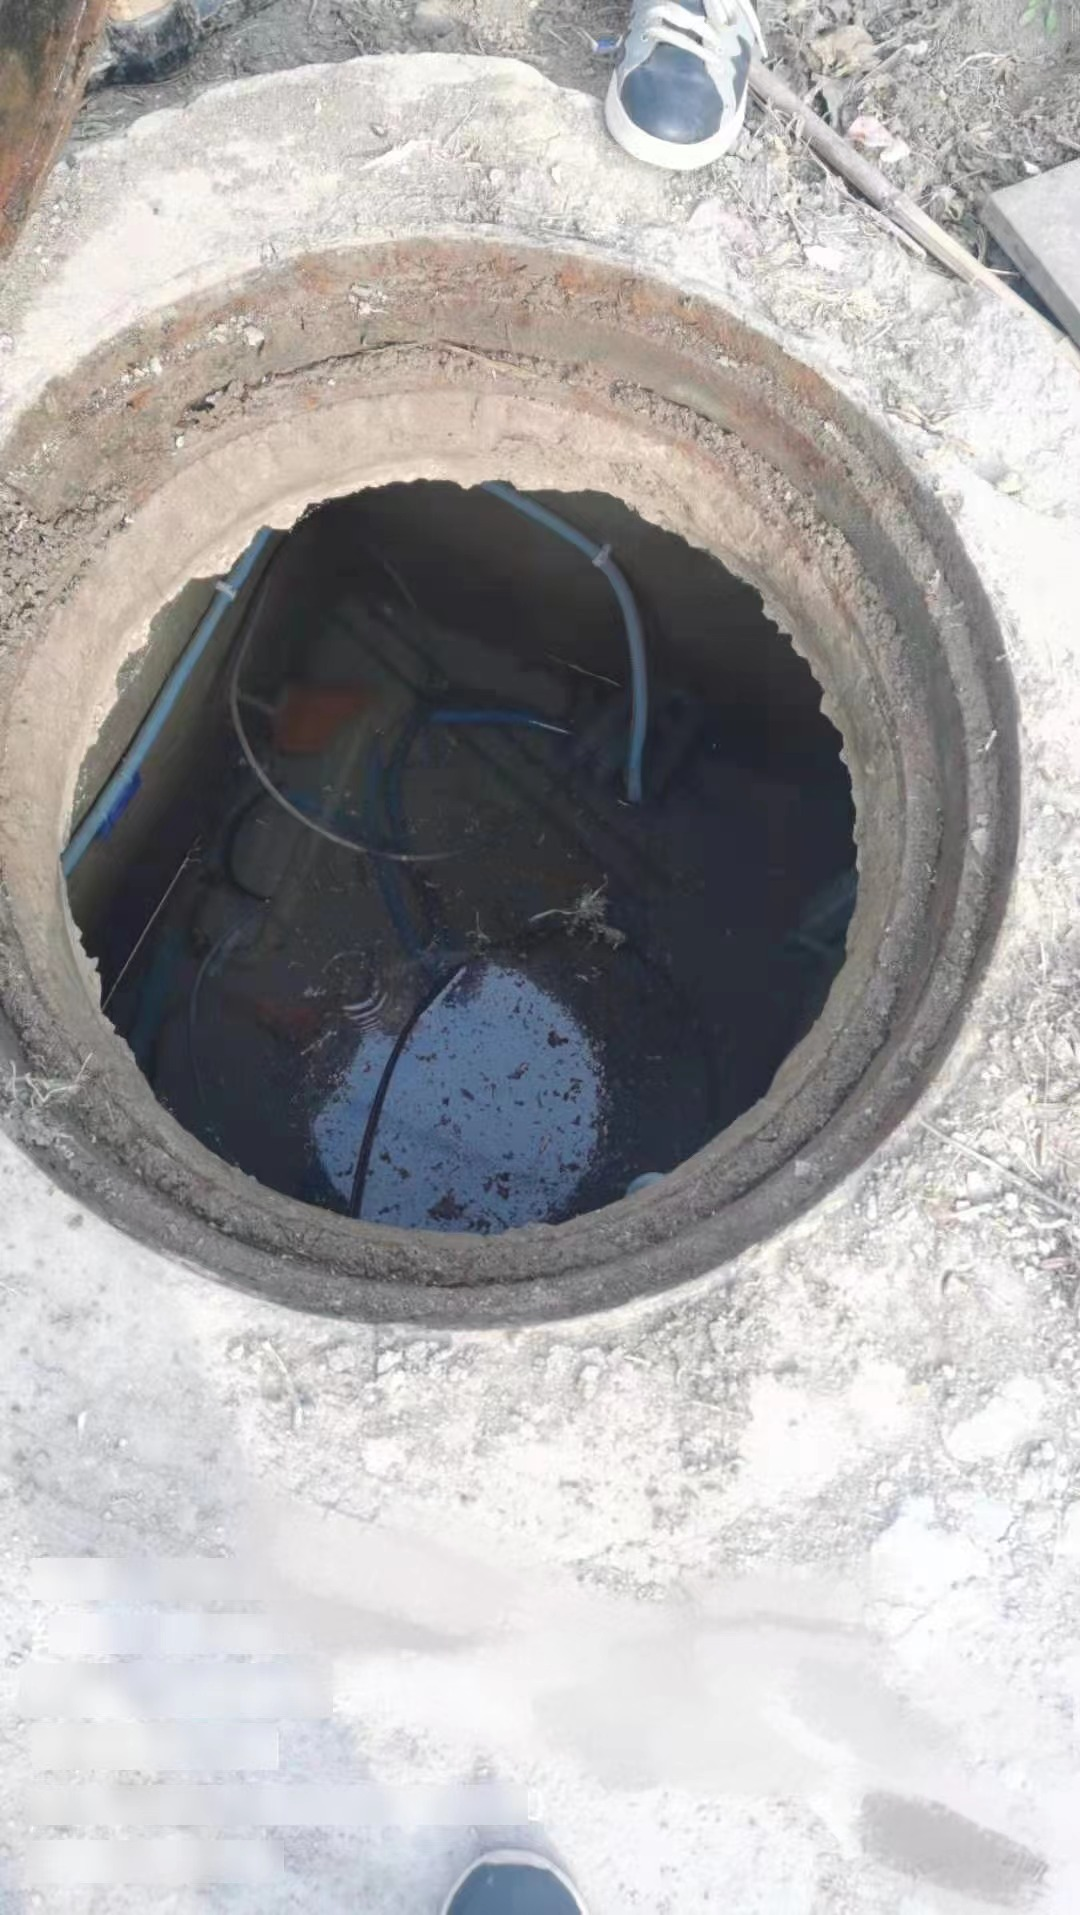well: (0, 189, 1035, 1324)
